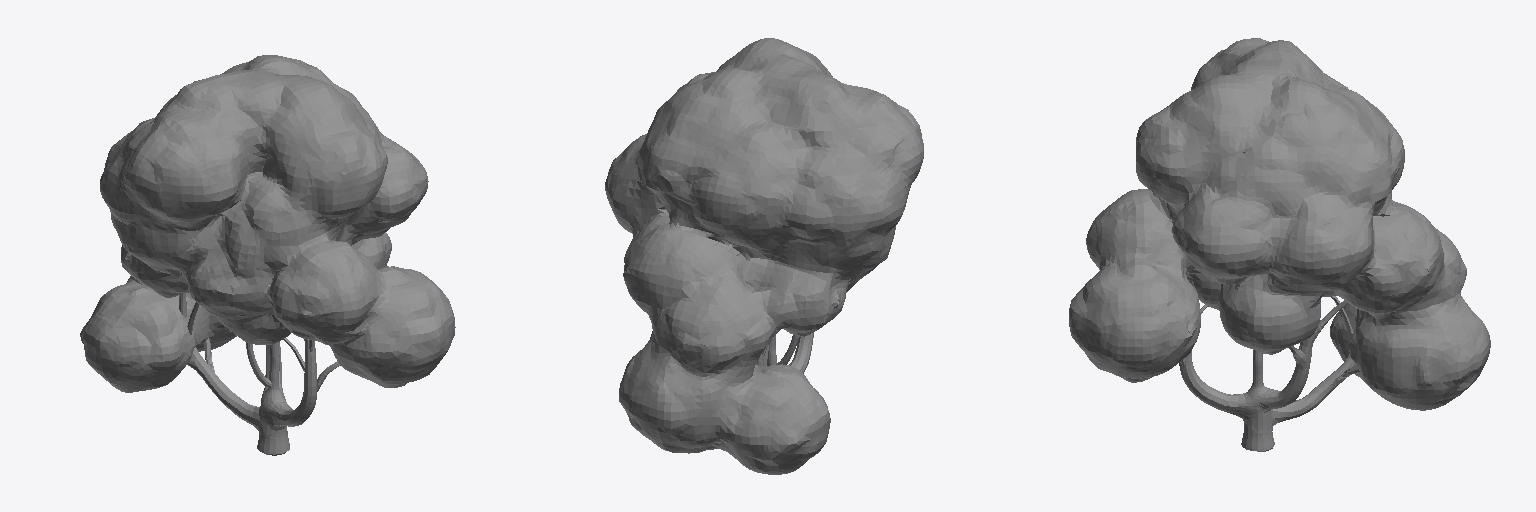
Rendered from tree_smooth.obj.
The picture shows the model from 3 angles: view 1: azimuth 30°, elevation 25°; view 2: azimuth 150°, elevation 25°; view 3: azimuth 270°, elevation 25°; orthographic projection.
Parts seen in each view (by area): view 1: 10445_Oak_tree_v1_SG; view 2: 10445_Oak_tree_v1_SG; view 3: 10445_Oak_tree_v1_SG.
Boxes of the visible parts, x1=… form: 10445_Oak_tree_v1_SG: x1=80, y1=55, x2=455, y2=455; 10445_Oak_tree_v1_SG: x1=605, y1=38, x2=923, y2=474; 10445_Oak_tree_v1_SG: x1=1069, y1=38, x2=1490, y2=451.
Size of the model in its own units: 11.22 by 14.43 by 14.72.